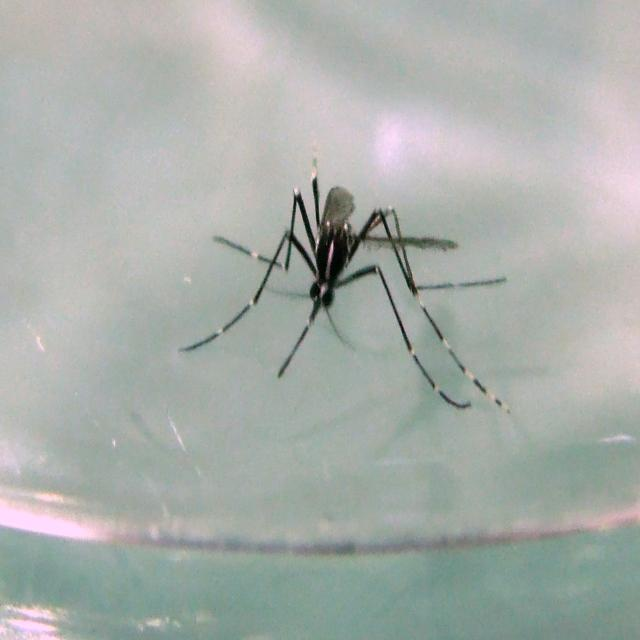albopictus: (183, 127, 508, 437)
